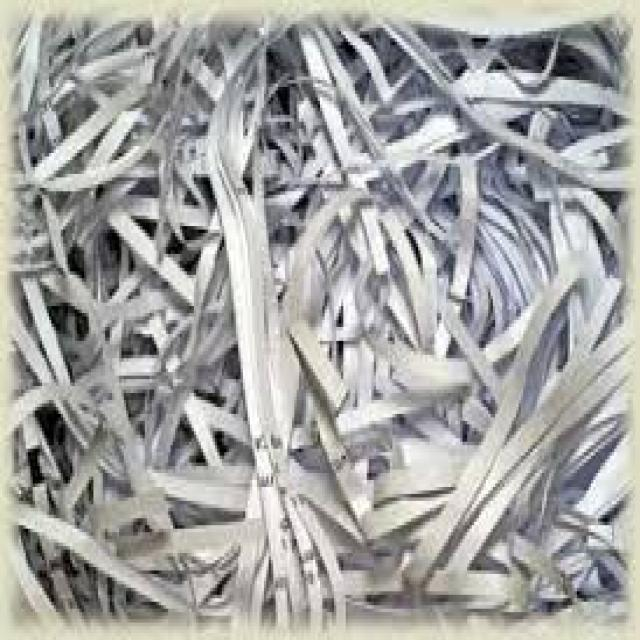paper: (5, 11, 628, 630)
